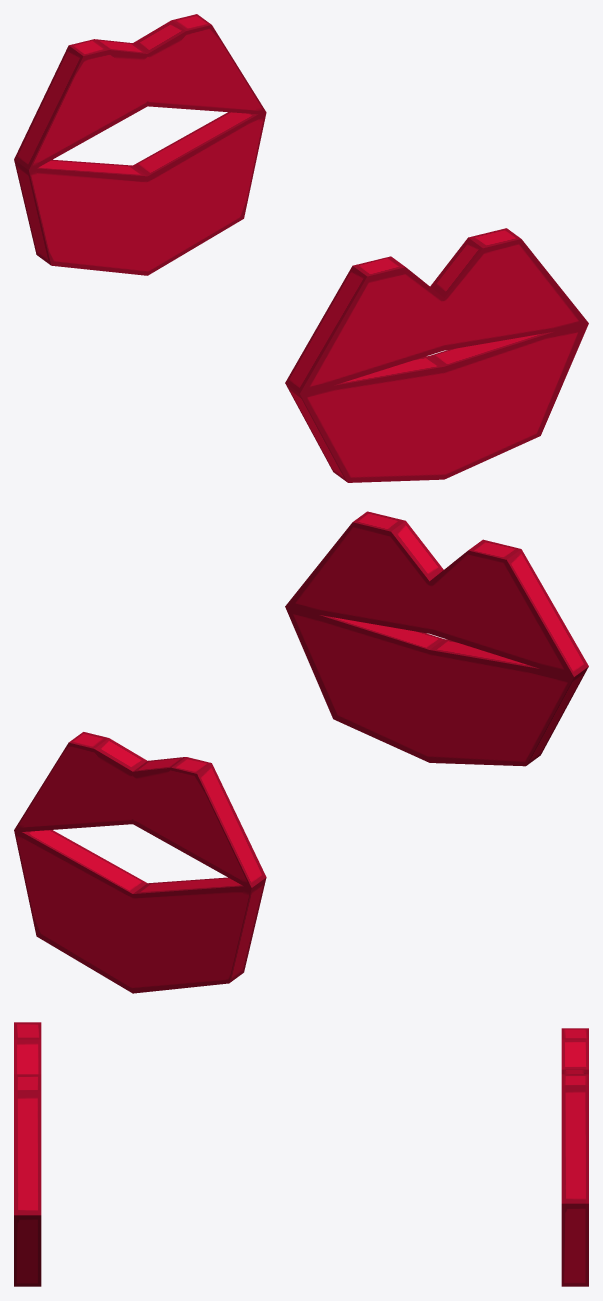
The model's file is mouths-1b.dae.
3 renders of one model, top to bottom at view 1: azimuth 30°, elevation 25°; view 2: azimuth 150°, elevation 25°; view 3: azimuth 270°, elevation 25°, orthographic. The views are drawn at different scales.
Parts seen in each view (by area): view 1: mouth-0, mouth-1; view 2: mouth-0, mouth-1; view 3: mouth-0, mouth-1.
Part boxes in pixels (left/top/right/bottom): mouth-0: left=285, top=228, right=588, bottom=482; mouth-1: left=14, top=14, right=266, bottom=275; mouth-0: left=285, top=511, right=588, bottom=766; mouth-1: left=14, top=732, right=266, bottom=993; mouth-0: left=14, top=1022, right=41, bottom=1286; mouth-1: left=561, top=1028, right=588, bottom=1286.
Size of the model in its own units: 0.5625 by 1.05 by 0.4375.
2 materials, 2 textured.
